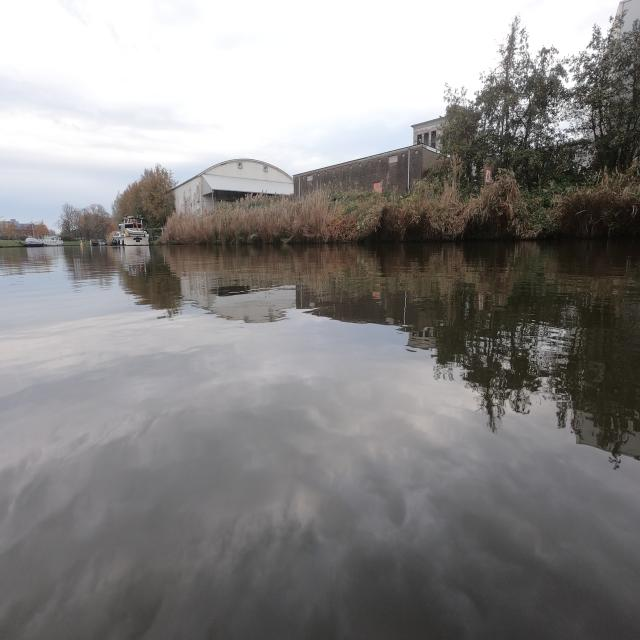boat: (111, 216, 149, 245), (24, 236, 63, 246)
reed: (155, 173, 522, 243), (533, 165, 639, 238)
sky: (1, 1, 543, 209)
tree: (440, 3, 633, 184)
water: (1, 239, 639, 639)
